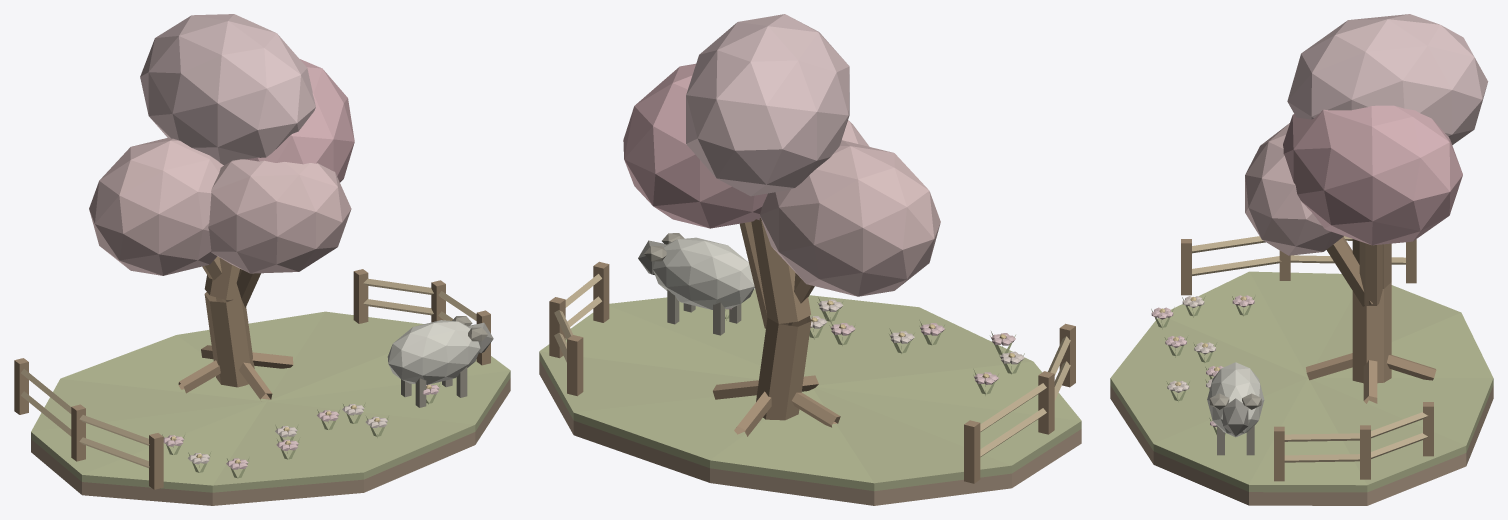
The picture shows the model from 3 angles, left to right: view 1: azimuth 30°, elevation 25°; view 2: azimuth 150°, elevation 25°; view 3: azimuth 270°, elevation 25°; orthographic projection. The views are drawn at different scales.
Visible parts, largest first — view 1: S10; view 2: S10; view 3: S10.
Part boxes in pixels (<box>): S10: <box>14,14,510,505</box>; S10: <box>539,14,1081,505</box>; S10: <box>1110,14,1493,505</box>.
Bounding box in the file's own units: 4.41 × 3.65 × 3.34.
